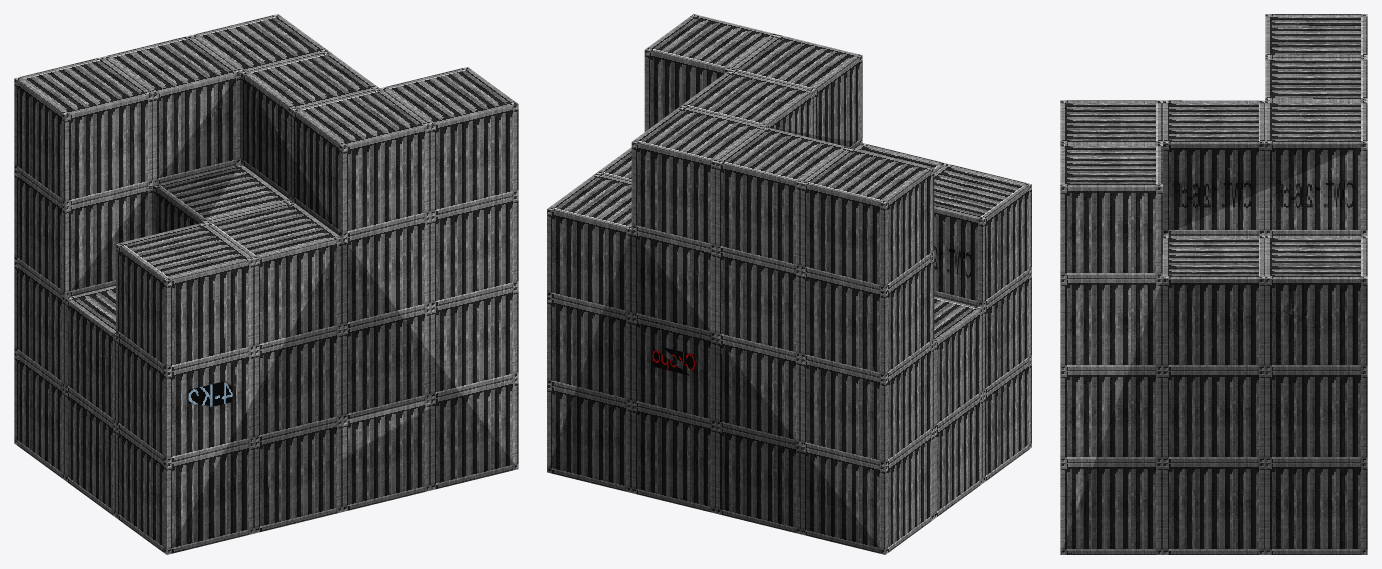
Rendered from primary_103.glb.
The picture shows the model from 3 angles, left to right: view 1: azimuth 30°, elevation 25°; view 2: azimuth 150°, elevation 25°; view 3: azimuth 270°, elevation 25°; orthographic projection. The views are drawn at different scales.
Parts seen in each view (by area): view 1: Object; view 2: Object; view 3: Object.
Part boxes in pixels (x1,y1,x2,y2): Object: (14, 14, 518, 554); Object: (547, 14, 1031, 554); Object: (1060, 14, 1367, 554).
Size of the model in its own units: 6.01 by 5.96 by 4.51.
9 materials, 9 textured.
